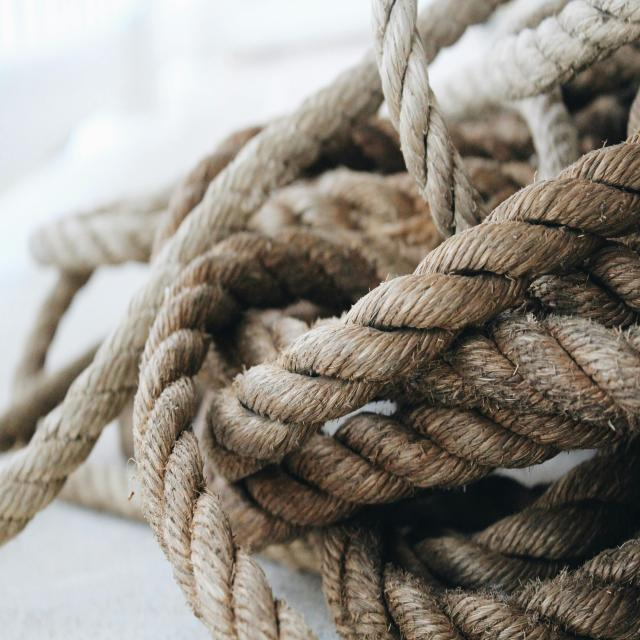Rope: (5, 4, 640, 640)
